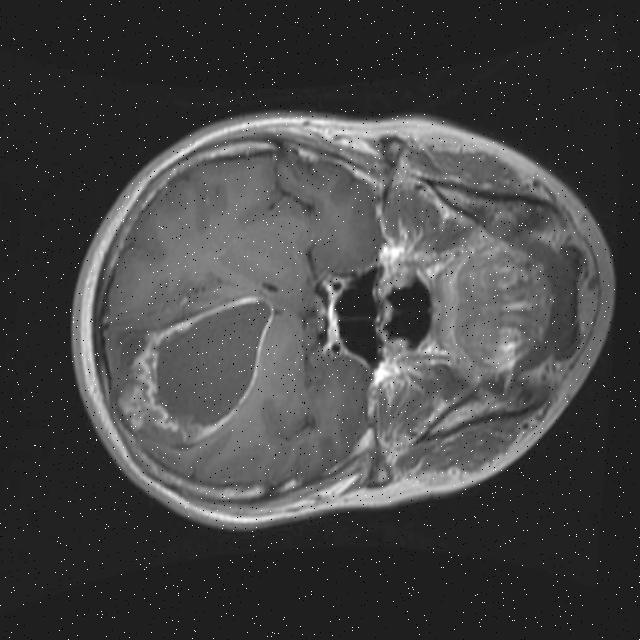Glioma: (109, 293, 280, 438)
